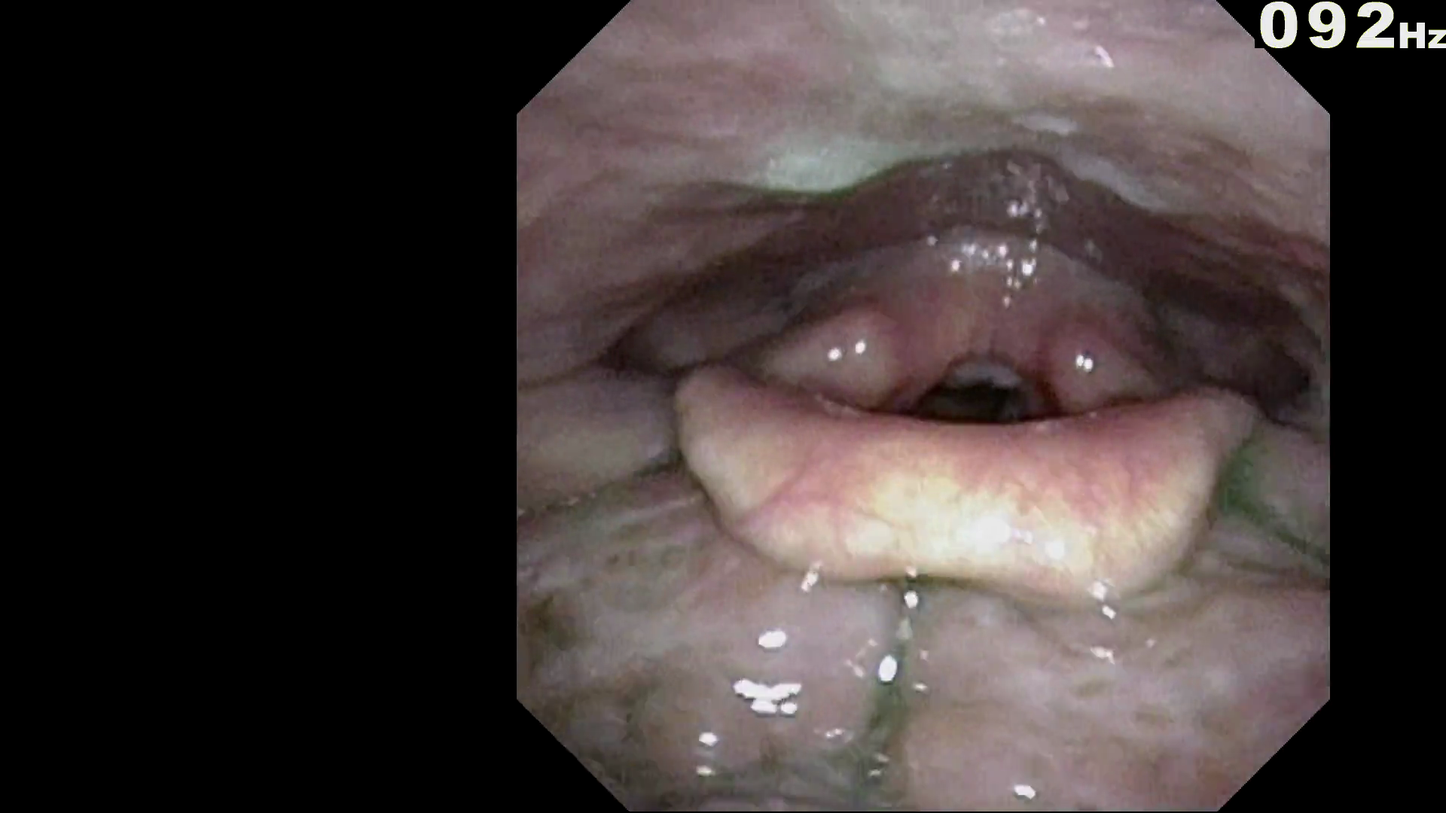epiglottis: (656, 401, 1268, 592)
trachea: (903, 372, 1046, 453)
